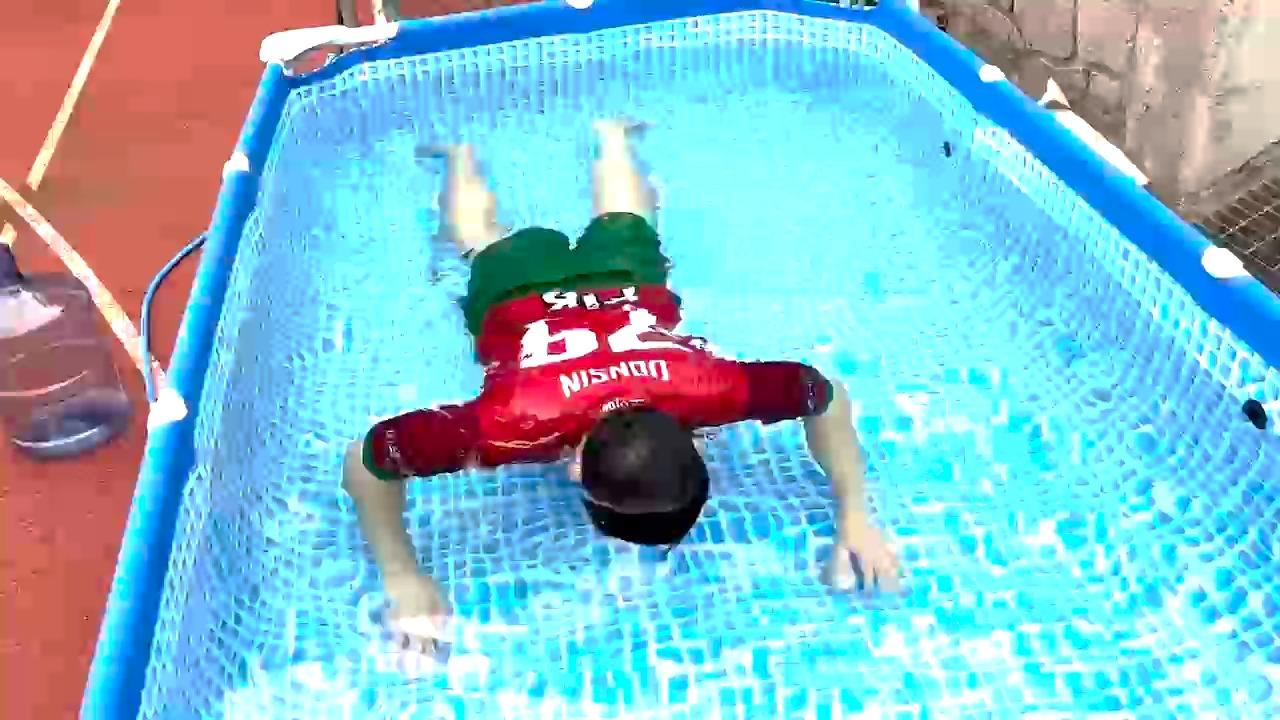Drowning: (326, 102, 908, 633)
